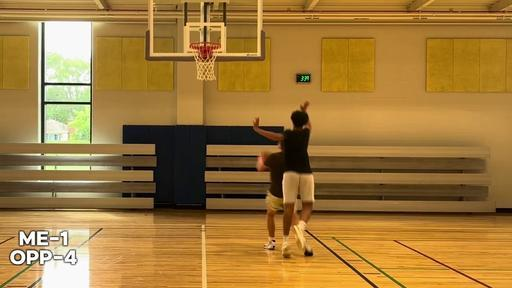human: (252, 101, 314, 258), (256, 142, 282, 252)
rim: (190, 42, 221, 80)
